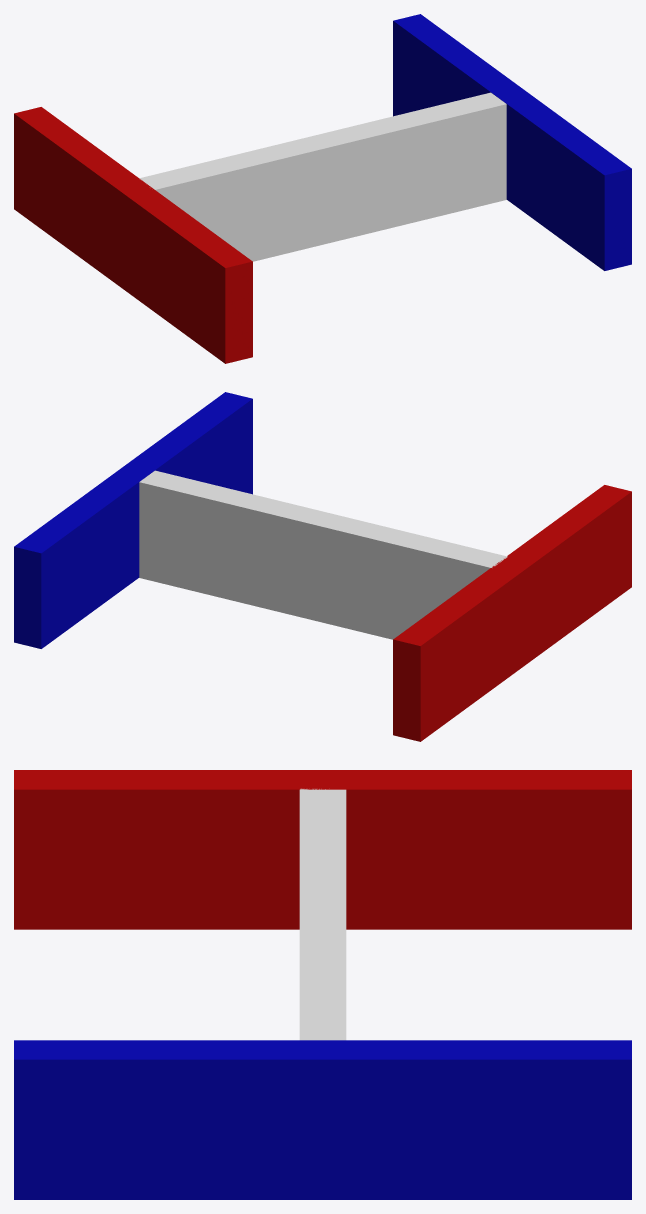
The model's file is Level4.fbx.
3 renders of one model, top to bottom at view 1: azimuth 30°, elevation 25°; view 2: azimuth 150°, elevation 25°; view 3: azimuth 270°, elevation 25°, orthographic. The views are drawn at different scales.
Visible parts, largest first — view 1: Cube, Cube.002, Cube.001; view 2: Cube, Cube.002, Cube.001; view 3: Cube.001, Cube.002, Cube.
Boxes of the visible parts, box(x1,y1,x2,y2) form: Cube: box(139, 92, 506, 261); Cube.002: box(14, 107, 252, 363); Cube.001: box(393, 14, 631, 270); Cube: box(139, 470, 507, 639); Cube.002: box(393, 485, 631, 741); Cube.001: box(14, 392, 252, 648); Cube.001: box(14, 1040, 631, 1199); Cube.002: box(14, 770, 631, 929); Cube: box(299, 788, 346, 1040).
Size of what is drawn, in the model's own units: 888 by 201 by 800.
